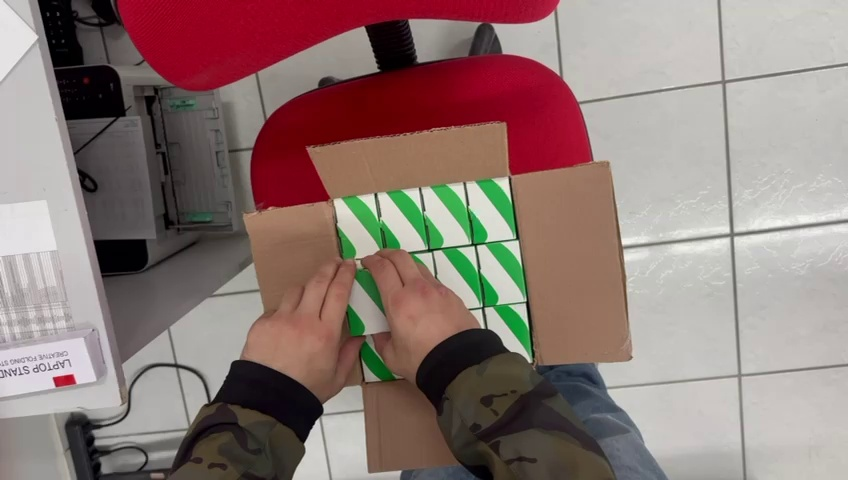divisor: (338, 265, 401, 338), (373, 184, 433, 256), (462, 173, 521, 245), (429, 244, 492, 311), (471, 239, 531, 308), (330, 191, 389, 261), (418, 180, 476, 251), (479, 301, 537, 368), (353, 336, 411, 387)
